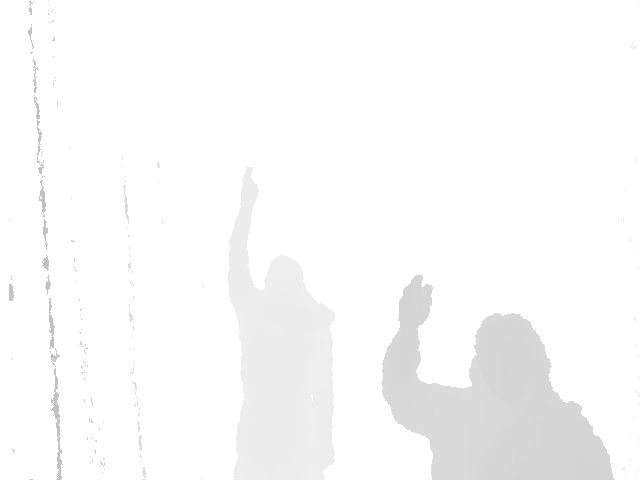hand: (393, 276, 436, 334), (236, 166, 264, 210)
head: (468, 310, 550, 401), (262, 254, 307, 306)
person: (383, 263, 617, 480), (223, 166, 338, 480)
